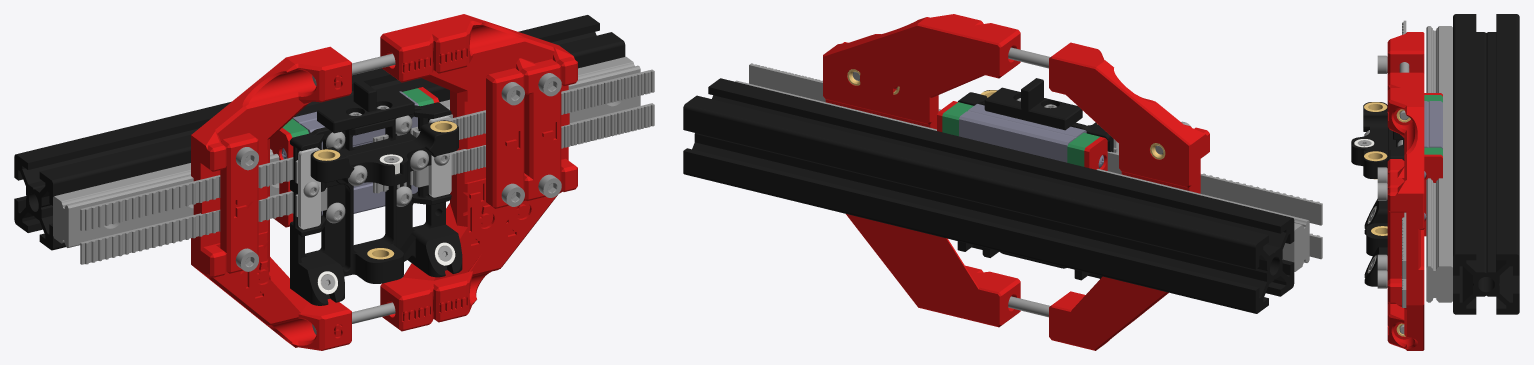
The model's file is LDO_Shuttle_Install.glb.
The picture shows the model from 3 angles, left to right: view 1: azimuth 30°, elevation 25°; view 2: azimuth 150°, elevation 25°; view 3: azimuth 270°, elevation 25°; orthographic projection. The views are drawn at different scales.
Visible parts, largest first — view 1: Block Left, Extrusion, Frame, Block Right, Block Right Open, SOLID, Clip Right, Belts Left001, Belts Left, Clip Left, Top Bracket, Clip Right Open (+12 smaller); view 2: Extrusion, Block Left, Block Right, Block Right Open, PRODUCT_NAME_1, Belts Left, Flag, SOLID, Belts Right001, Frame, PRODUCT_NAME_4, PRODUCT_NAME_2 (+3 smaller); view 3: Extrusion, Block Right Open, SOLID, Top Bracket, Frame, Block Left, Clip Right Open, Block Right, PRODUCT_NAME_1, PRODUCT_NAME_5, Belts Right001, Clip Right (+10 smaller).
Boxes of the visible parts, x1,y1,x2,y2 form: Block Left: [191, 46, 351, 350]; Extrusion: [14, 15, 625, 250]; Frame: [290, 103, 462, 305]; Block Right: [380, 23, 539, 331]; Block Right Open: [421, 14, 577, 322]; SOLID: [53, 57, 640, 247]; Clip Right: [486, 68, 524, 208]; Belts Left001: [80, 188, 327, 264]; Belts Left: [80, 157, 297, 230]; Clip Left: [220, 133, 258, 273]; Top Bracket: [310, 120, 458, 185]; Clip Right Open: [524, 59, 561, 199]; Extrusion: [683, 78, 1294, 313]; Block Left: [1049, 42, 1209, 350]; Block Right: [860, 23, 1020, 327]; Block Right Open: [823, 14, 983, 316]; PRODUCT_NAME_1: [959, 104, 1086, 162]; Belts Left: [1107, 147, 1322, 225]; Flag: [984, 78, 1082, 130]; SOLID: [735, 80, 1309, 271]; Belts Right001: [749, 64, 939, 111]; Frame: [957, 92, 1113, 280]; PRODUCT_NAME_4: [1084, 137, 1107, 170]; PRODUCT_NAME_2: [1067, 133, 1099, 166]; Extrusion: [1453, 14, 1519, 314]; Block Right Open: [1387, 88, 1424, 350]; SOLID: [1426, 26, 1452, 302]; Top Bracket: [1351, 102, 1387, 178]; Frame: [1364, 127, 1404, 286]; Block Left: [1387, 32, 1424, 74]; Clip Right Open: [1387, 177, 1404, 280]; Block Right: [1387, 72, 1424, 304]; PRODUCT_NAME_1: [1424, 101, 1442, 148]; PRODUCT_NAME_5: [1424, 154, 1442, 236]; Belts Right001: [1402, 212, 1406, 278]; Clip Right: [1387, 159, 1404, 174].
Size of the model in its own units: 0.1094 by 0.0518 by 0.0324.
